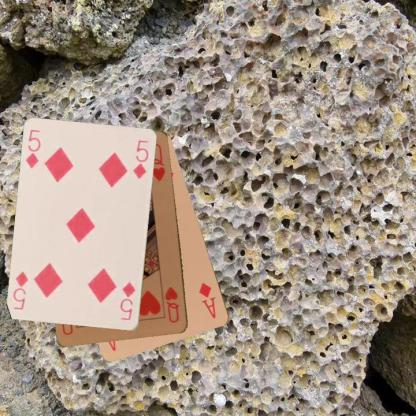5d: (23, 127, 42, 170), (118, 280, 137, 322)
Ad: (196, 280, 218, 320)
Qh: (162, 284, 181, 324)
